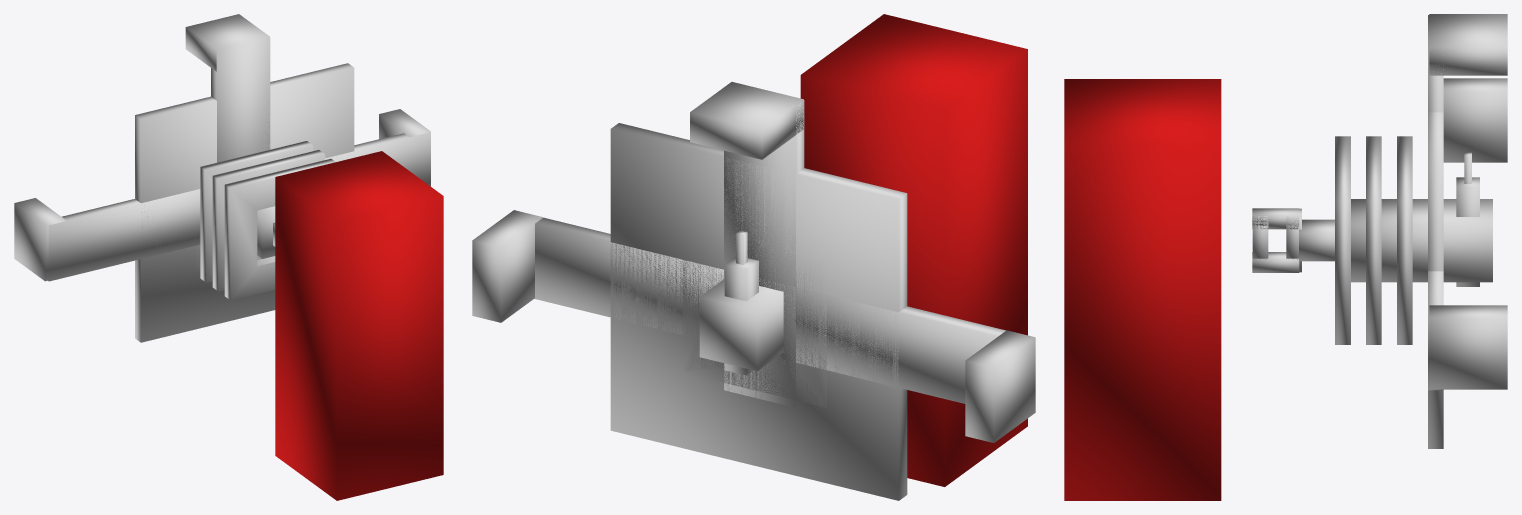
File: ciambellatore.fbx
3 renders of one model, left to right at view 1: azimuth 30°, elevation 25°; view 2: azimuth 150°, elevation 25°; view 3: azimuth 270°, elevation 25°, orthographic. The views are drawn at different scales.
Visible parts, largest first — view 1: Cubo, Cubo.5, Cubo.1, Cubo.3, Cubo.1.3, Cubo.2.3, Cubo.3.3, Cubo.7, Cubo.4, Cubo.2, Cubo.6, Cubo.6.2; view 2: Cubo.5, Cubo, Cubo.1, Cubo.2, Cubo.3, Cubo.5.3, Cubo.7, Cubo.4, Cubo.6.2, Cubo.6, Cubo.7.2; view 3: Cubo, Cubo.6.2, Cubo.6, Cubo.7, Cubo.4, Cubo.5, Cubo.3.3, Cubo.2.3, Cubo.1.3, Cubo.4.2, Cubo.7.2, Cubo.3.2 (+5 smaller).
Boxes of the visible parts, x1,y1,x2,y2 form: Cubo: (275, 151, 443, 500); Cubo.5: (135, 63, 354, 342); Cubo.1: (48, 189, 200, 281); Cubo.3: (211, 37, 270, 162); Cubo.1.3: (224, 158, 335, 300); Cubo.2.3: (212, 150, 325, 291); Cubo.3.3: (200, 141, 312, 282); Cubo.7: (14, 198, 66, 281); Cubo.4: (185, 14, 269, 71); Cubo.2: (325, 132, 430, 186); Cubo.6: (379, 109, 430, 138); Cubo.6.2: (257, 206, 275, 258); Cubo.5: (610, 123, 907, 500); Cubo: (800, 14, 1027, 486); Cubo.1: (763, 280, 1005, 403); Cubo.2: (534, 217, 794, 338); Cubo.3: (724, 100, 804, 407); Cubo.5.3: (682, 222, 826, 407); Cubo.7: (965, 330, 1035, 442); Cubo.4: (690, 82, 803, 159); Cubo.6.2: (699, 279, 783, 371); Cubo.6: (472, 210, 542, 322); Cubo.7.2: (724, 257, 758, 375); Cubo: (1064, 79, 1221, 500); Cubo.6.2: (1351, 199, 1492, 282); Cubo.6: (1429, 305, 1507, 389); Cubo.7: (1443, 78, 1507, 162); Cubo.4: (1429, 14, 1507, 75); Cubo.5: (1428, 112, 1443, 448); Cubo.3.3: (1397, 136, 1412, 344); Cubo.2.3: (1366, 136, 1381, 344); Cubo.1.3: (1335, 136, 1350, 344); Cubo.4.2: (1299, 219, 1334, 261); Cubo.7.2: (1456, 177, 1479, 286); Cubo.3.2: (1252, 208, 1299, 229).
Size of the model in its own units: 362 by 306 by 283.
